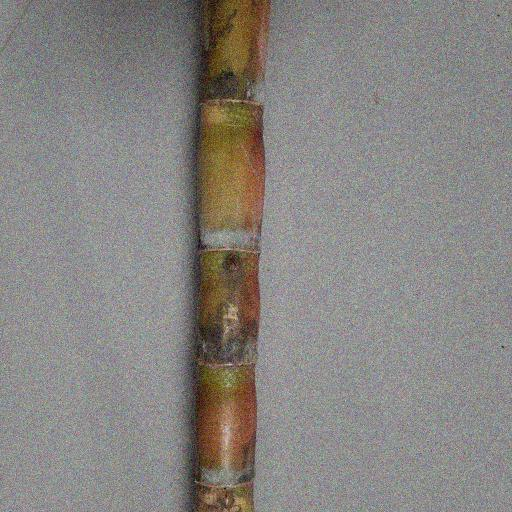Bud: (223, 252, 241, 275)
